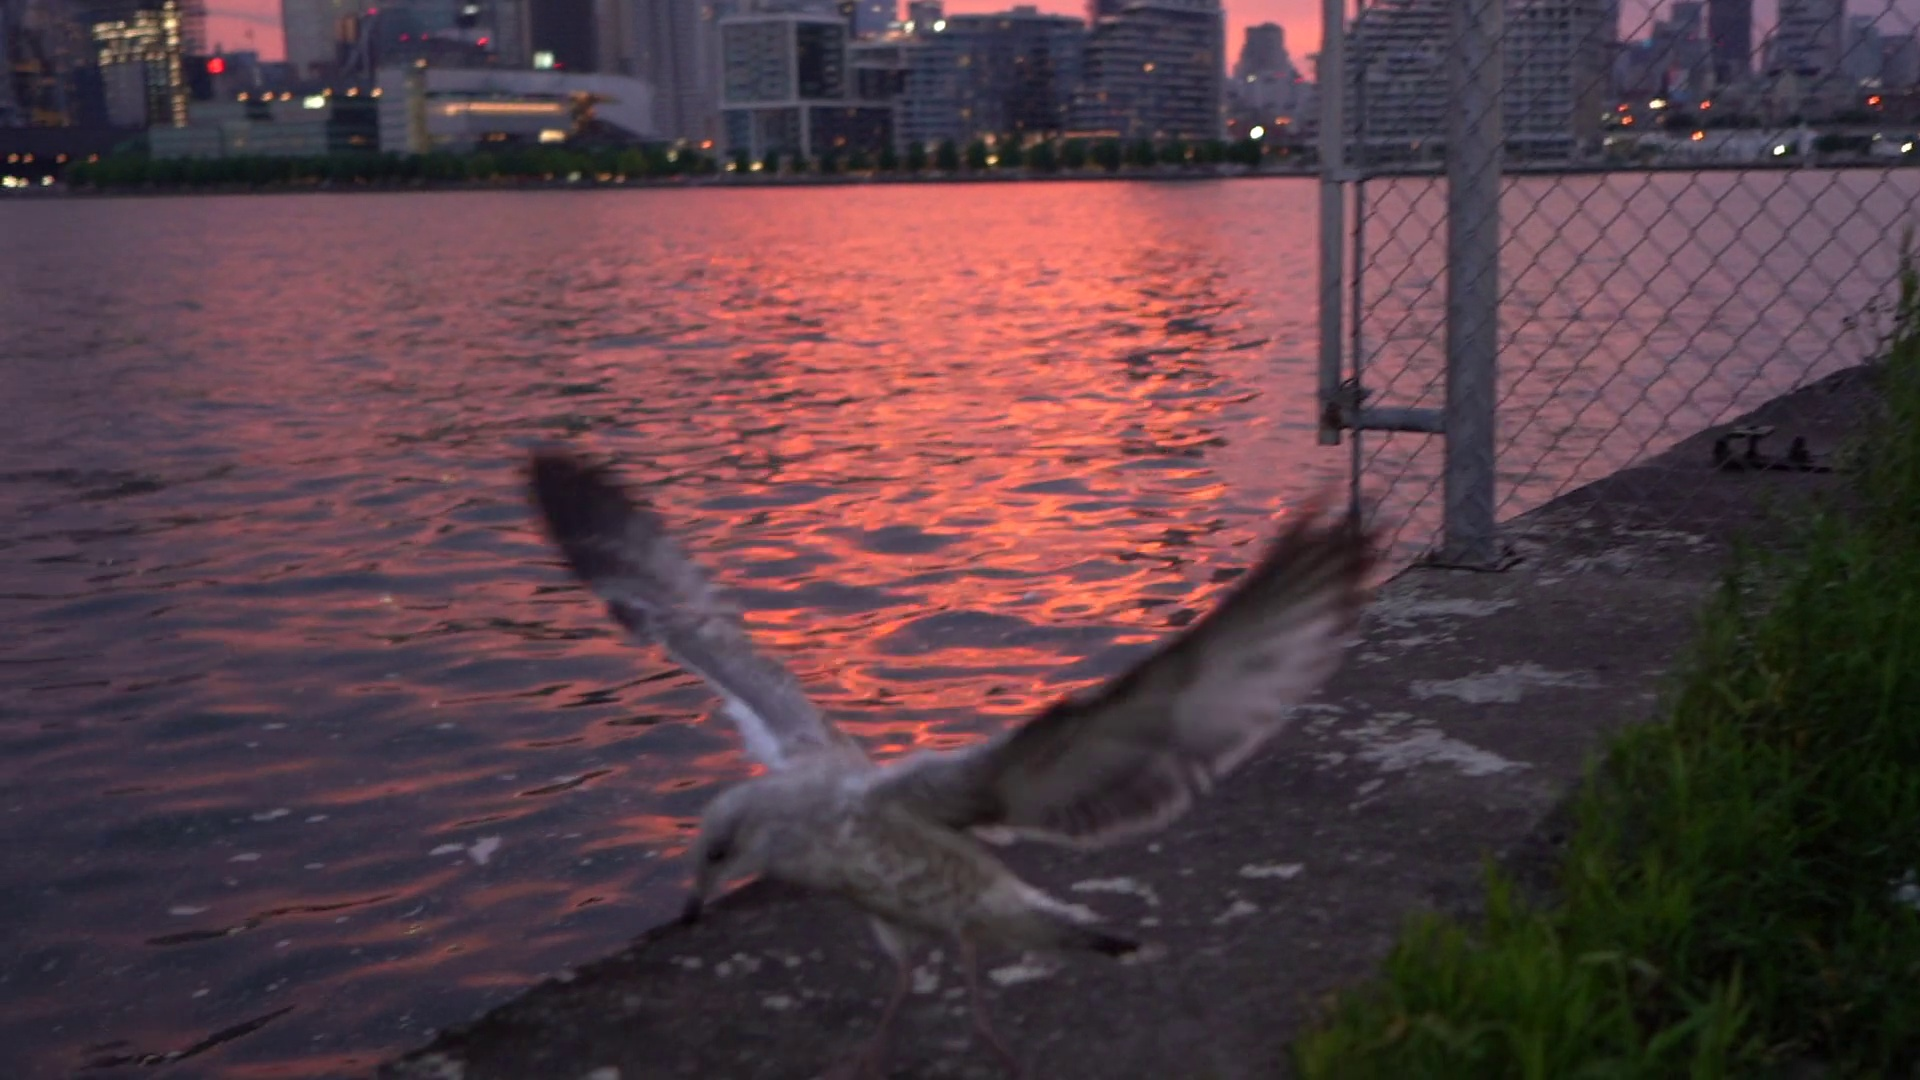bird: (465, 451, 1366, 990)
